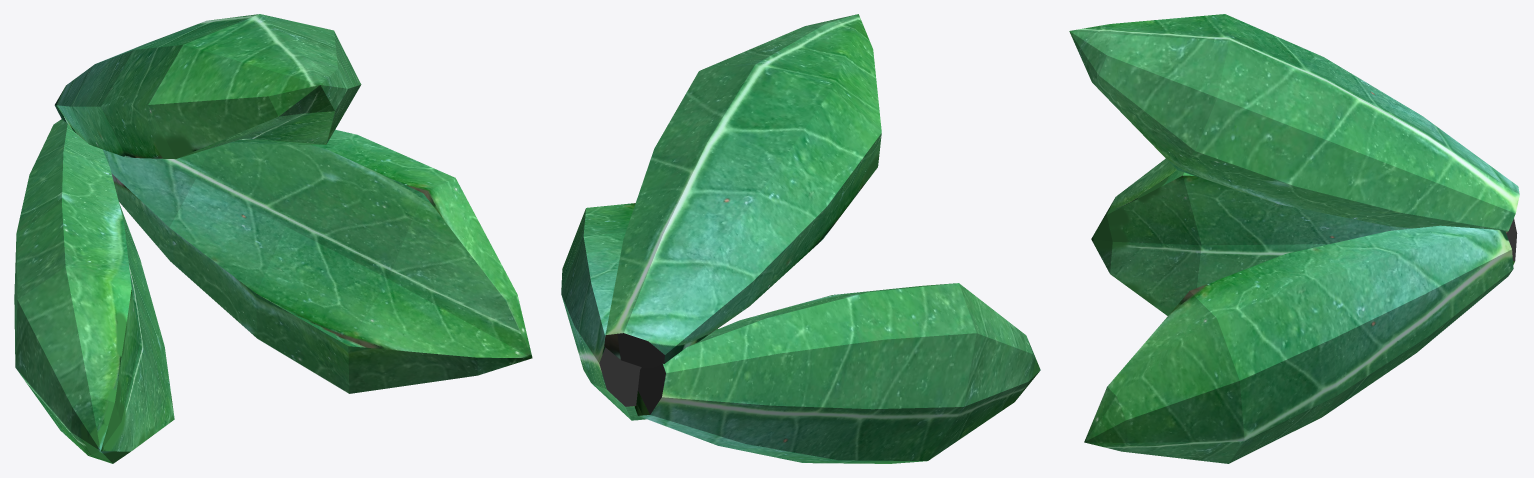
File: plantA.glb
3 renders of one model, left to right at view 1: azimuth 30°, elevation 25°; view 2: azimuth 150°, elevation 25°; view 3: azimuth 270°, elevation 25°, orthographic. The views are drawn at different scales.
Visible parts, largest first — view 1: Cylinder.001; view 2: Cylinder.001; view 3: Cylinder.001.
Part boxes in pixels (x1=…): Cylinder.001: x1=14, y1=14, x2=532, y2=463; Cylinder.001: x1=561, y1=14, x2=1040, y2=463; Cylinder.001: x1=1069, y1=14, x2=1519, y2=463.
Size of the model in its own units: 0.7777 by 0.668 by 0.7282.
Materials: 1 (1 with a texture image).
